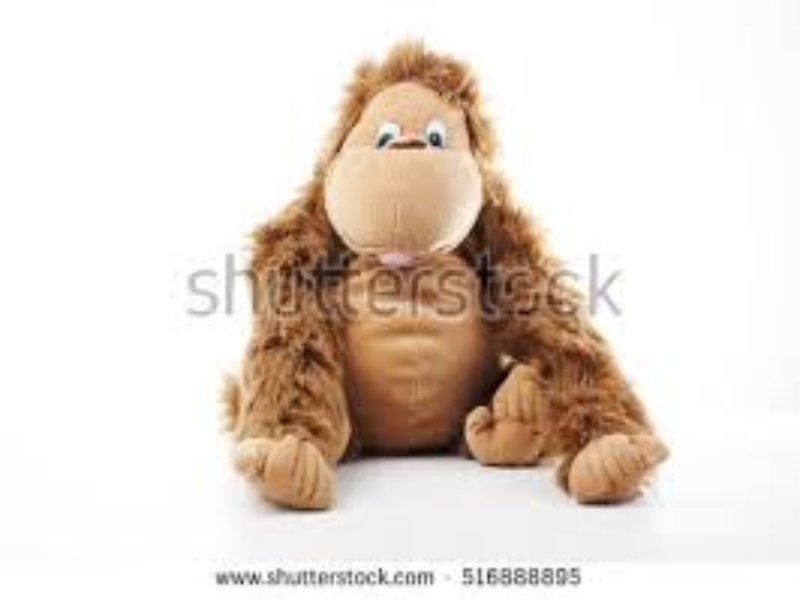monkey: (205, 27, 757, 437)
